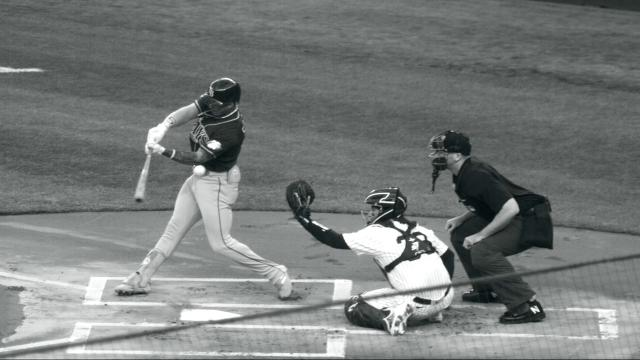baseball bat: (134, 148, 152, 204)
sports ball: (194, 164, 208, 178)
